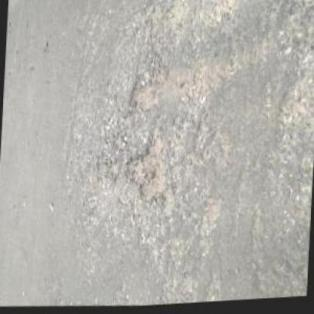Hueco: (124, 138, 167, 208), (130, 84, 159, 116)
